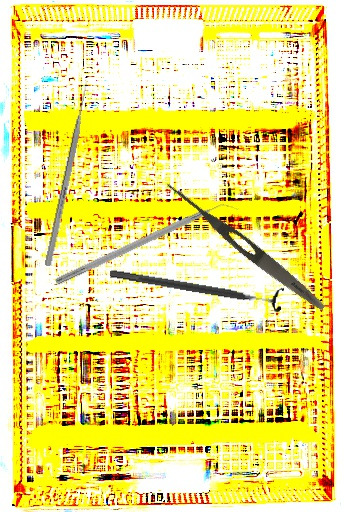Chopper: (54, 195, 241, 295)
Dressing Forceps: (160, 178, 330, 315)
Fixation Ring: (107, 259, 285, 315)
Pusher: (44, 80, 91, 267)
